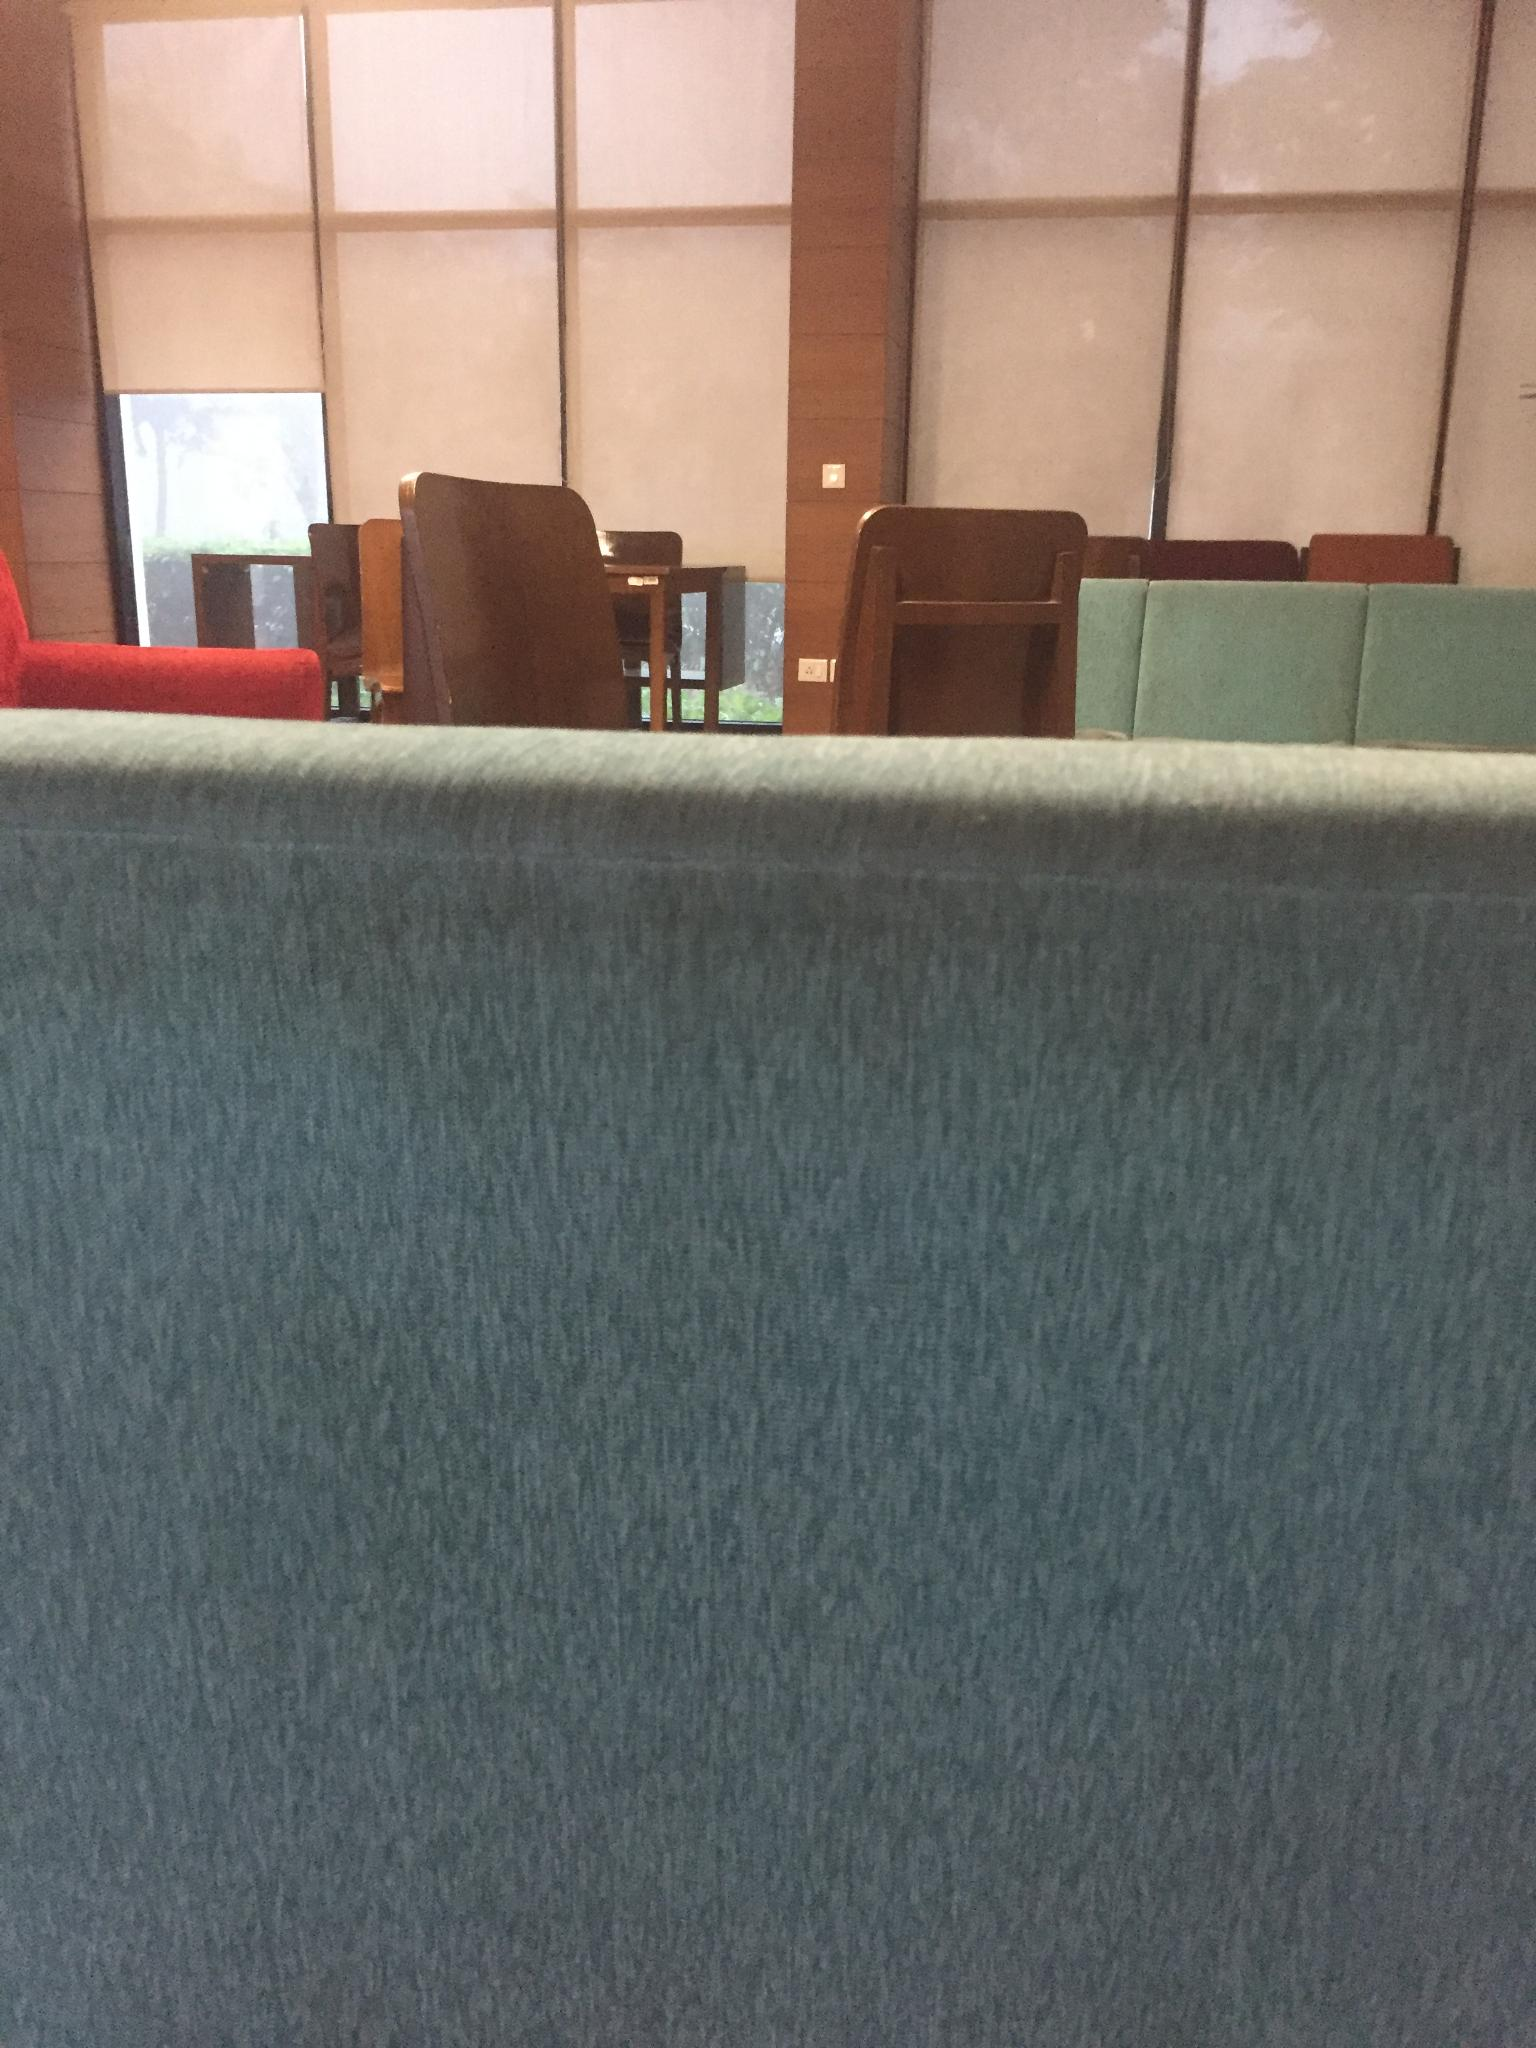chair: (397, 471, 636, 729), (833, 505, 1087, 737), (2, 550, 328, 719), (1355, 582, 1534, 751), (287, 519, 408, 716), (618, 506, 699, 734), (1305, 532, 1459, 584)
